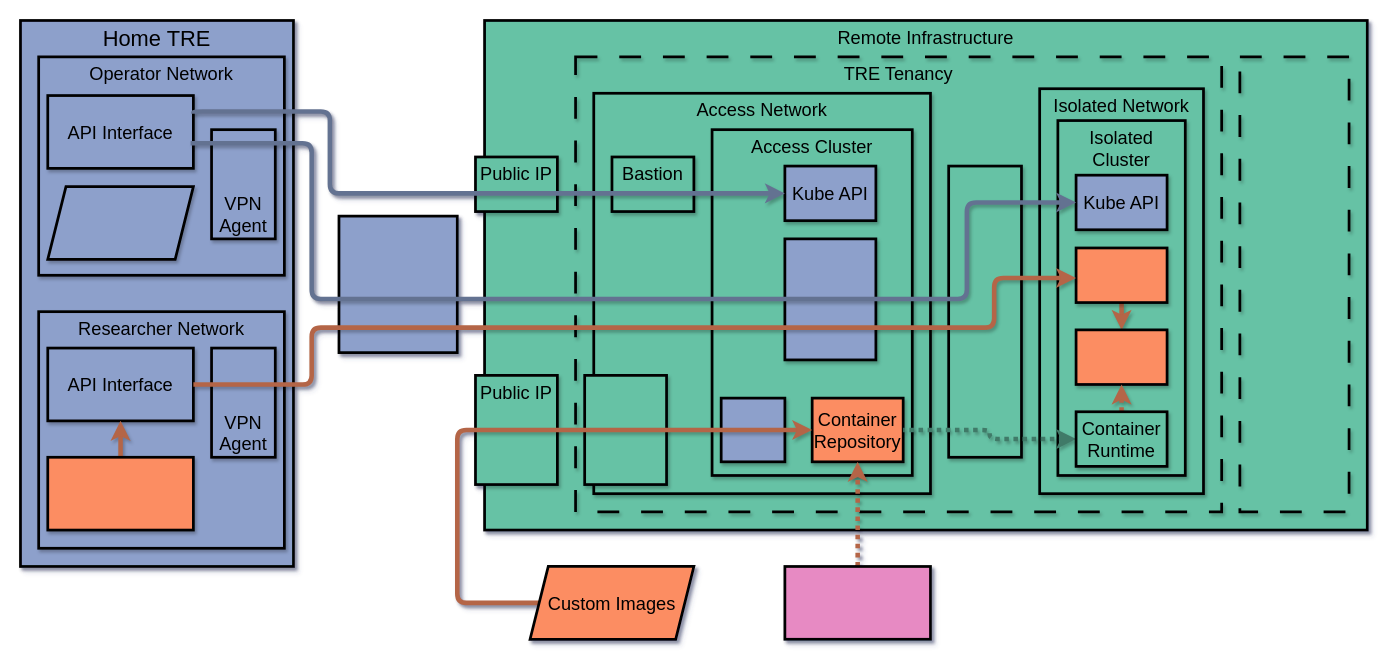
Image size: 1395x668. Some labels were removed from this diagram. The centre of each missing label's shape, as x and y in pixels:
Firewall: (985,313)
FRIDGE API: (1122,276)
Ingress: (753,431)
Jobs: (1122,358)
K8s credential: (121,224)
Other Tenancies: (1294,285)
Public Repositories: (858,604)
Router: (626,431)
VPN Agent + HAProxy: (830,300)
VPN Management Service: (399,285)
Workspace: (121,494)
